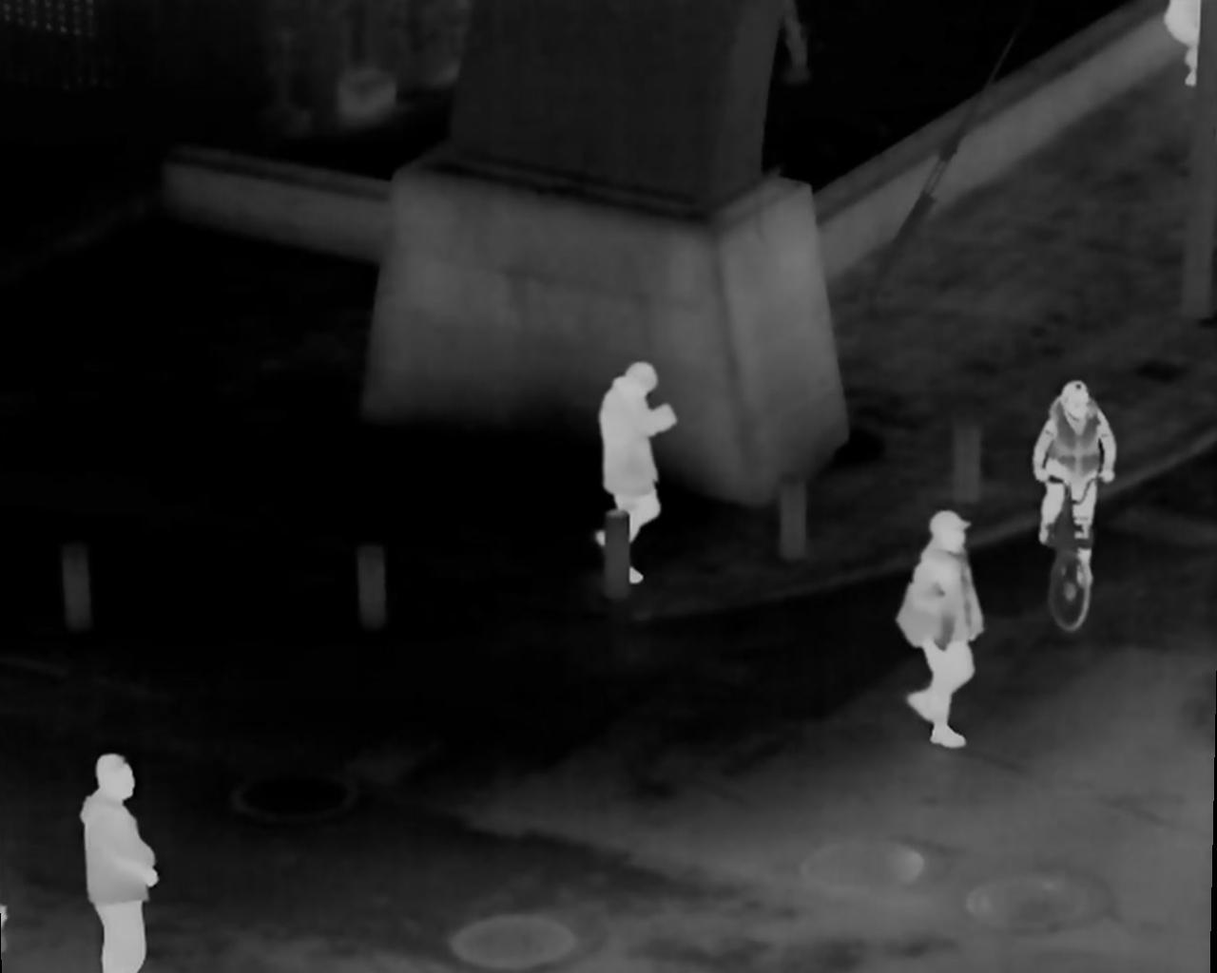person: (1018, 381, 1135, 595), (83, 746, 180, 973), (897, 511, 987, 750), (580, 373, 686, 574)
